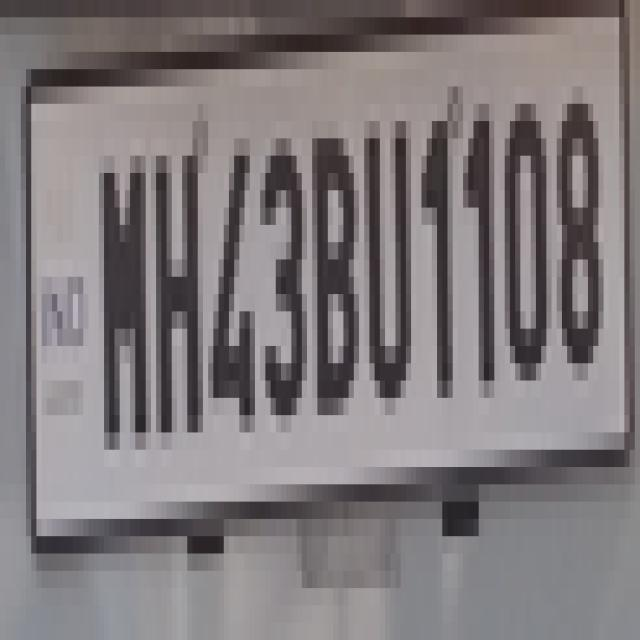0: (501, 100, 556, 383)
1: (458, 100, 505, 398), (416, 108, 462, 400)
3: (258, 129, 312, 421)
4: (202, 142, 262, 439)
8: (555, 81, 611, 385)
B: (311, 125, 364, 422)
H: (149, 138, 206, 444)
M: (97, 133, 152, 450)
U: (360, 114, 416, 407)
